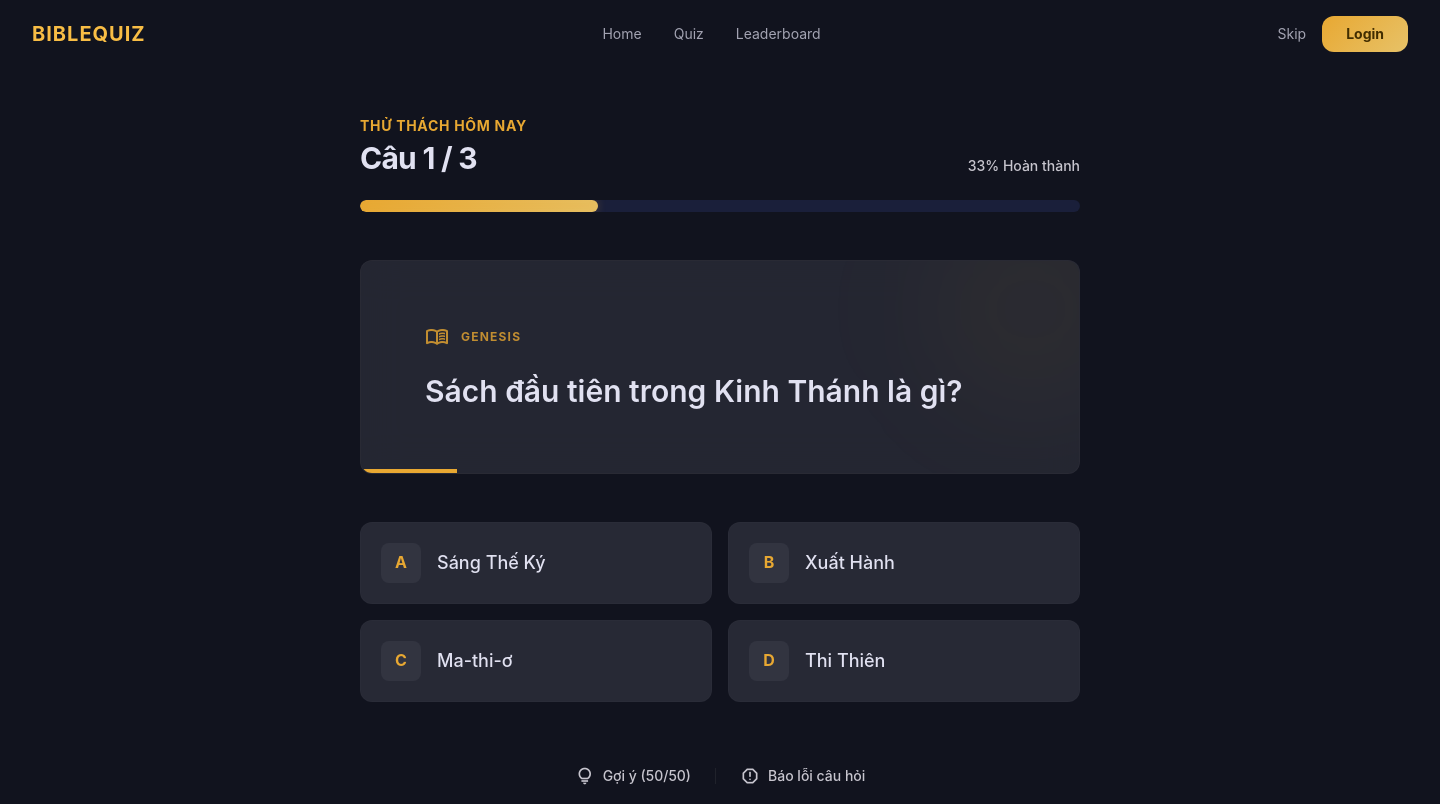
Test case: OnboardingTryQuiz › Quiz interaction › shows result screen after answering all questions
Expected: the heading "Câu 1 / 3" is shown, [360,140,477,176]
Answer Q1
Click the button "A Sáng Thế Ký": click(536, 563) [360,522,712,604]
Wait 900 ms
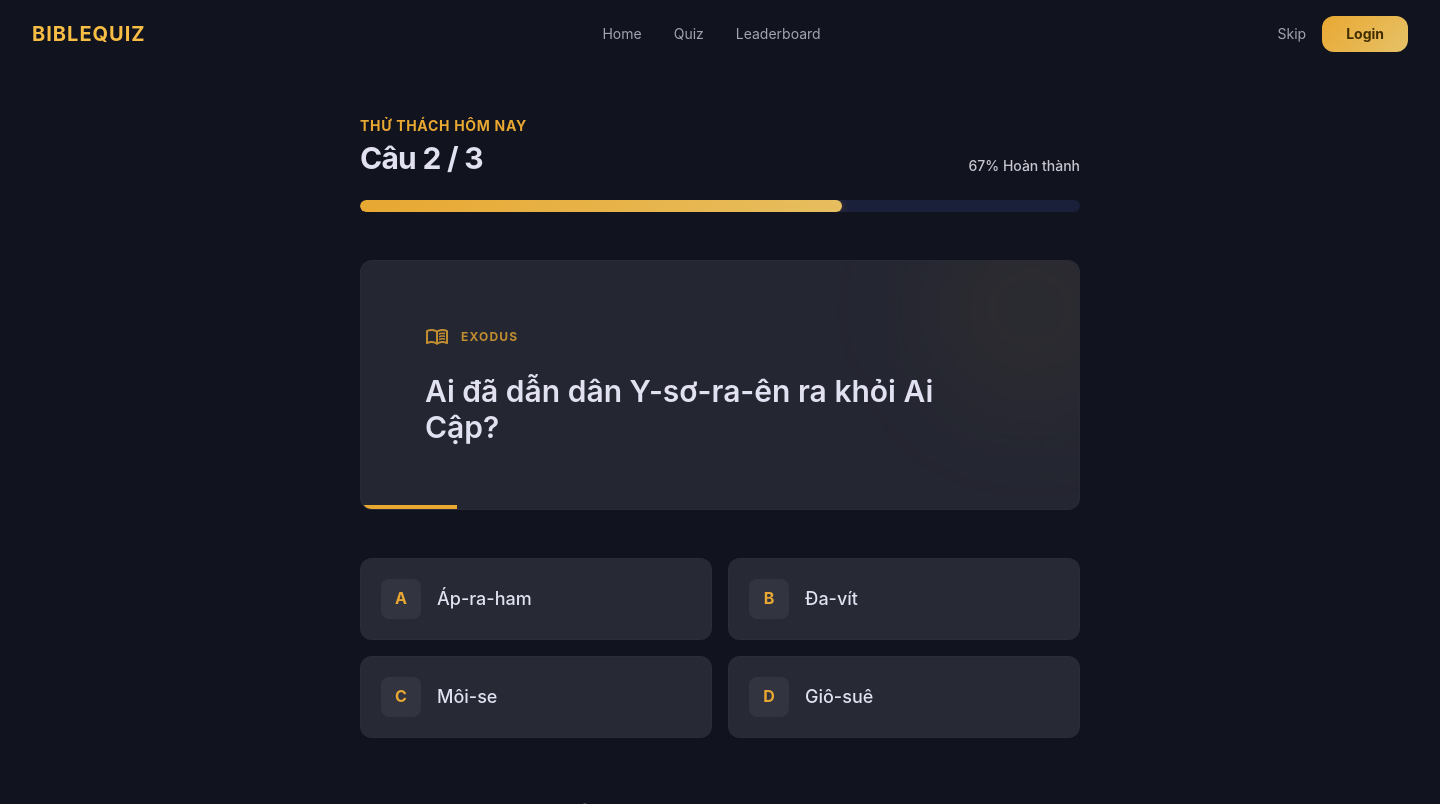
Expected: the heading "Câu 2 / 3" is shown, [360,140,483,176]
Answer Q2
Click the button "C Môi-se": click(401, 697) [360,656,712,738]
Wait 900 ms
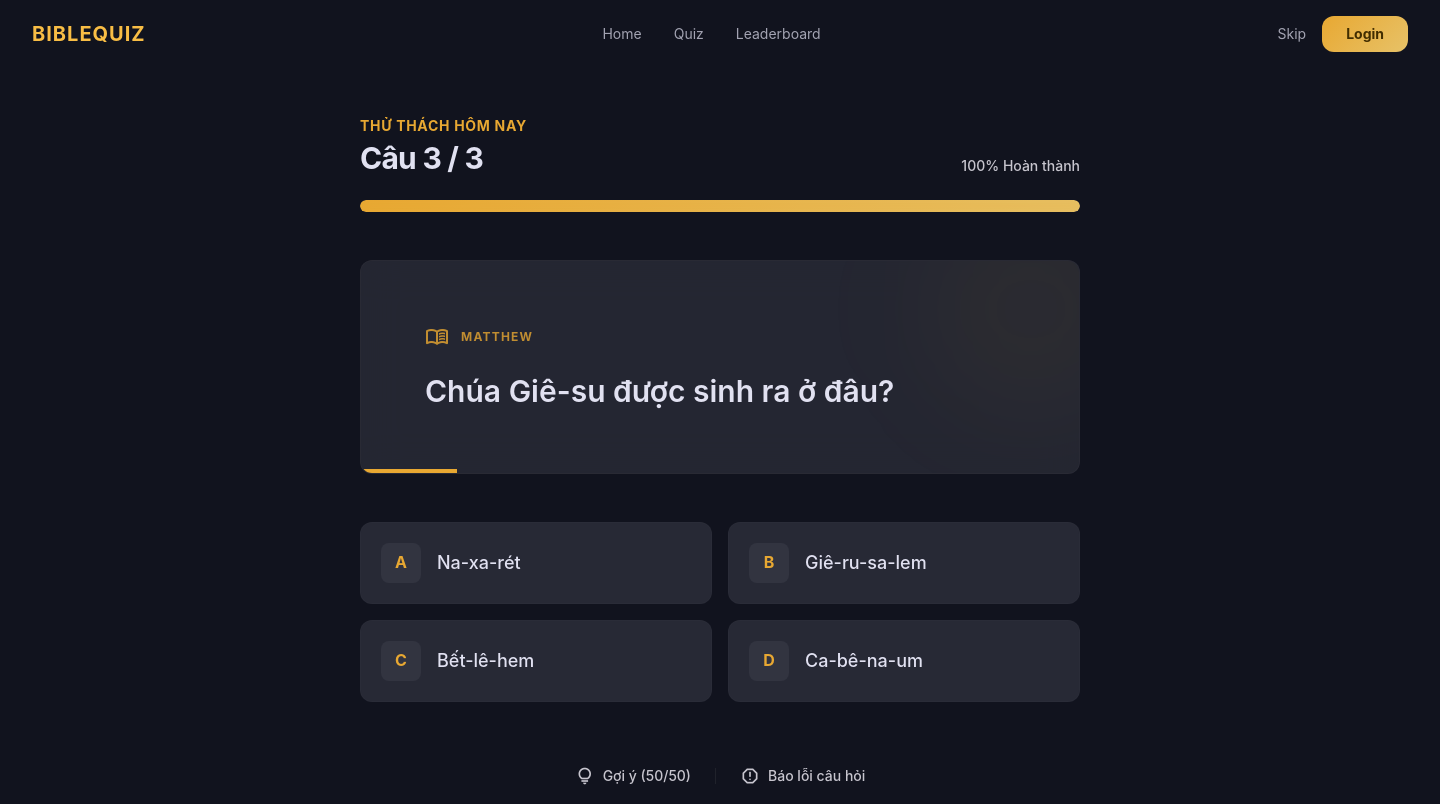
Expected: the heading "Câu 3 / 3" is shown, [360,140,483,176]
Answer Q3
Click the button "Môi-se": click(536, 661) [360,620,712,702]
Wait 900 ms
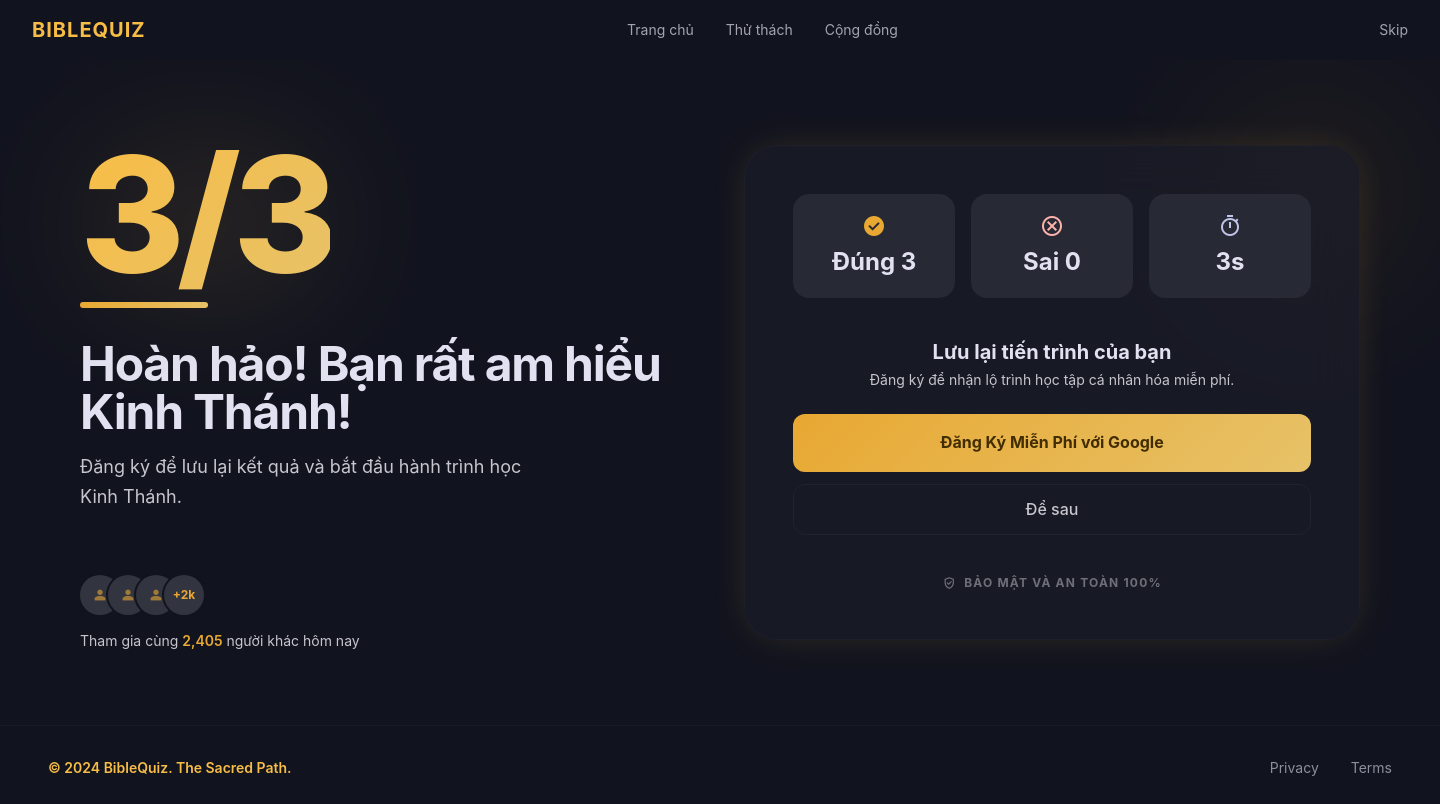
Expected: the text "3/3" is shown, [80,134,330,294]
